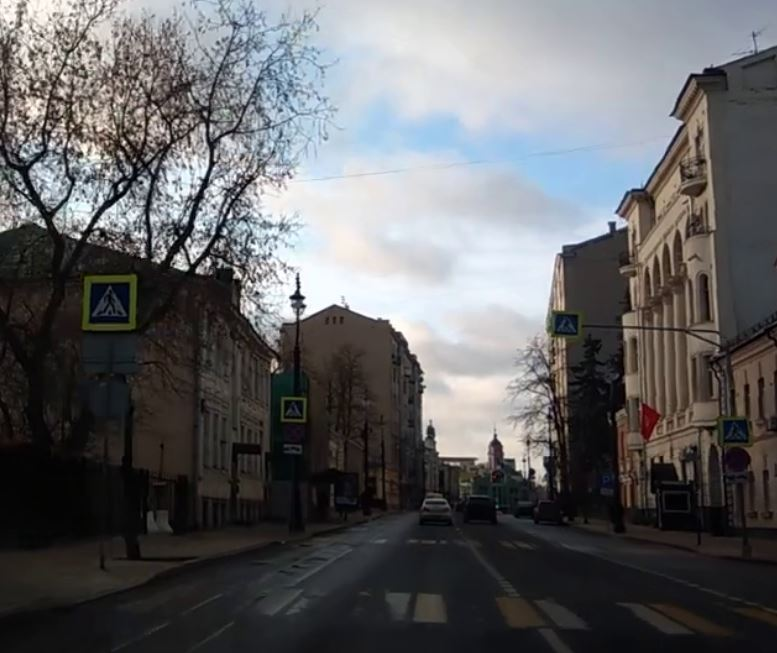Yaya Gecidi: (90, 282, 133, 322)
